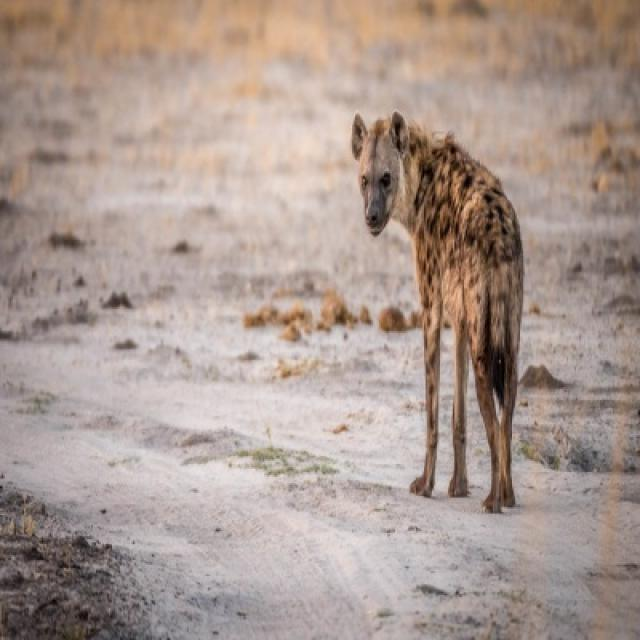hyena: (350, 114, 525, 512)
